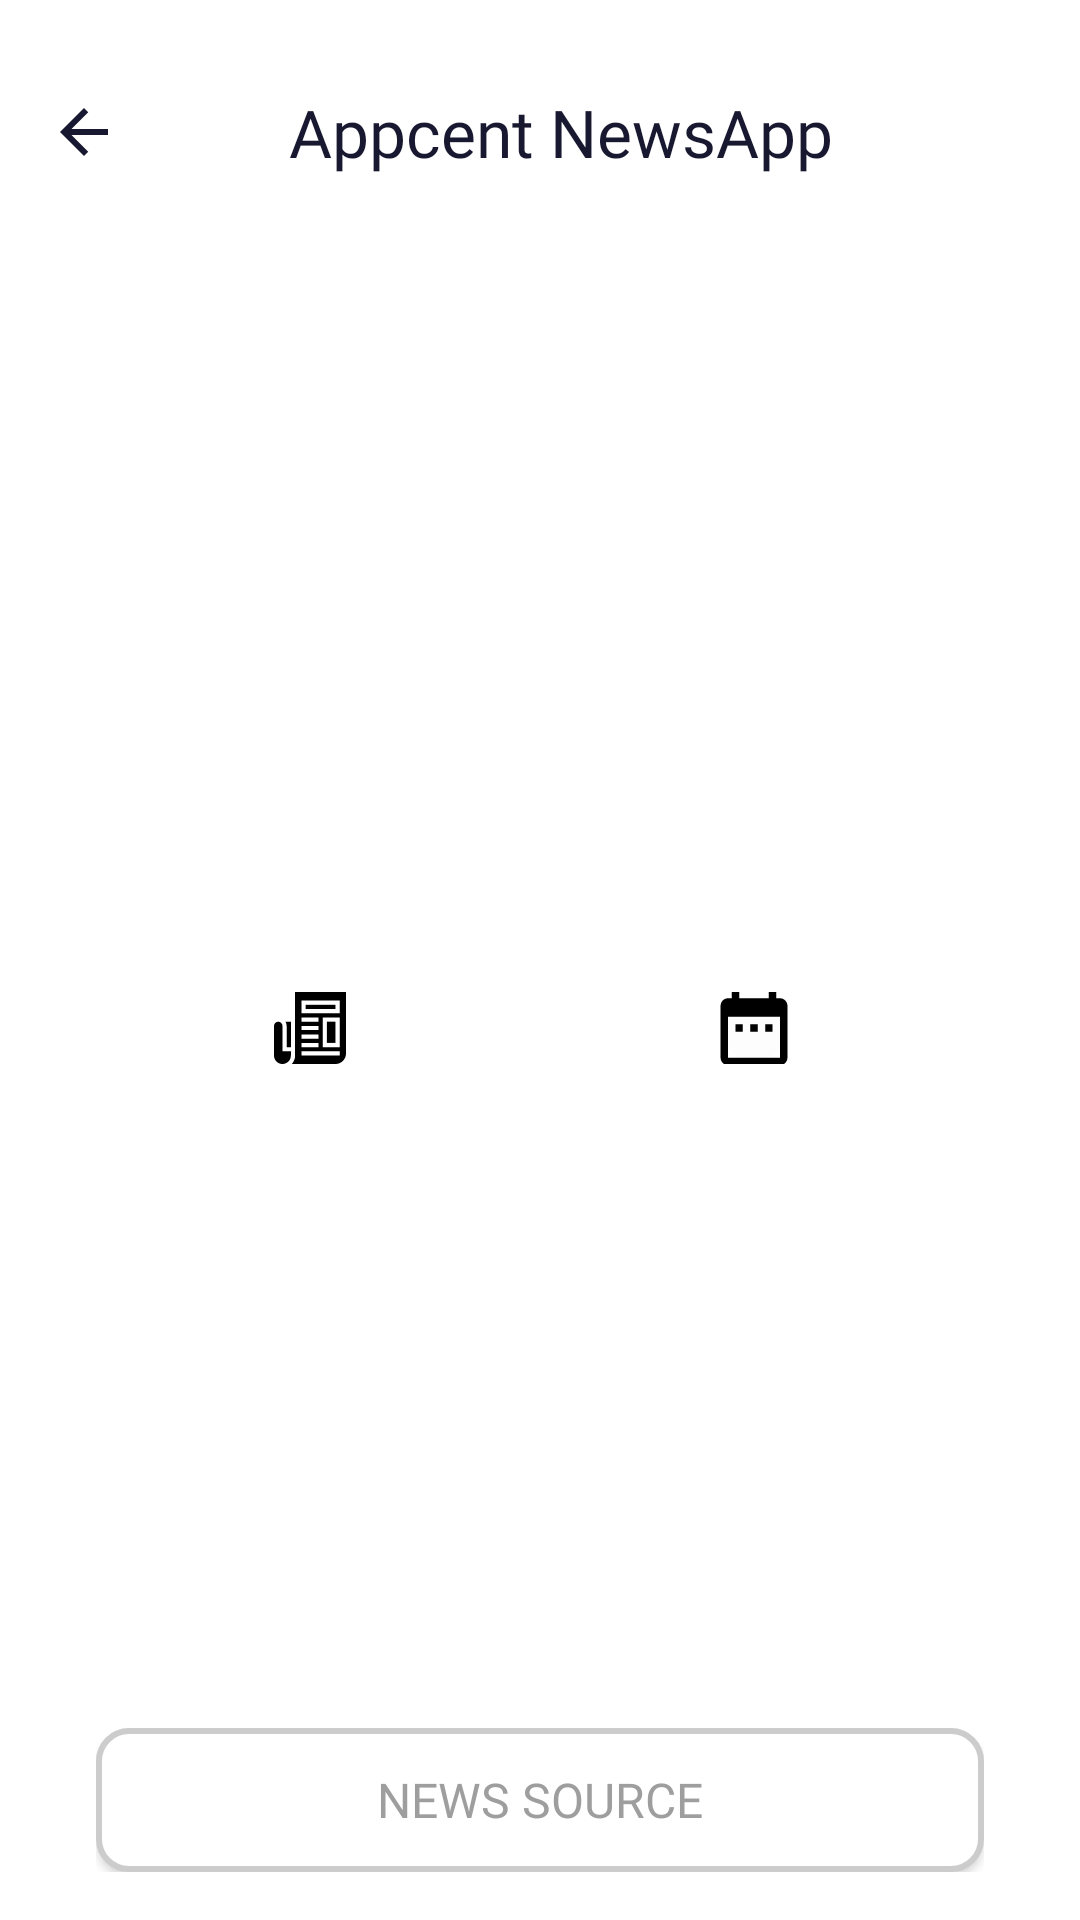

Where to tap for icons on this 1080px×1920px app screen, as [x,y]:
arrow: [84,132]
date: [754,1028]
newspaper: [310,1028]
